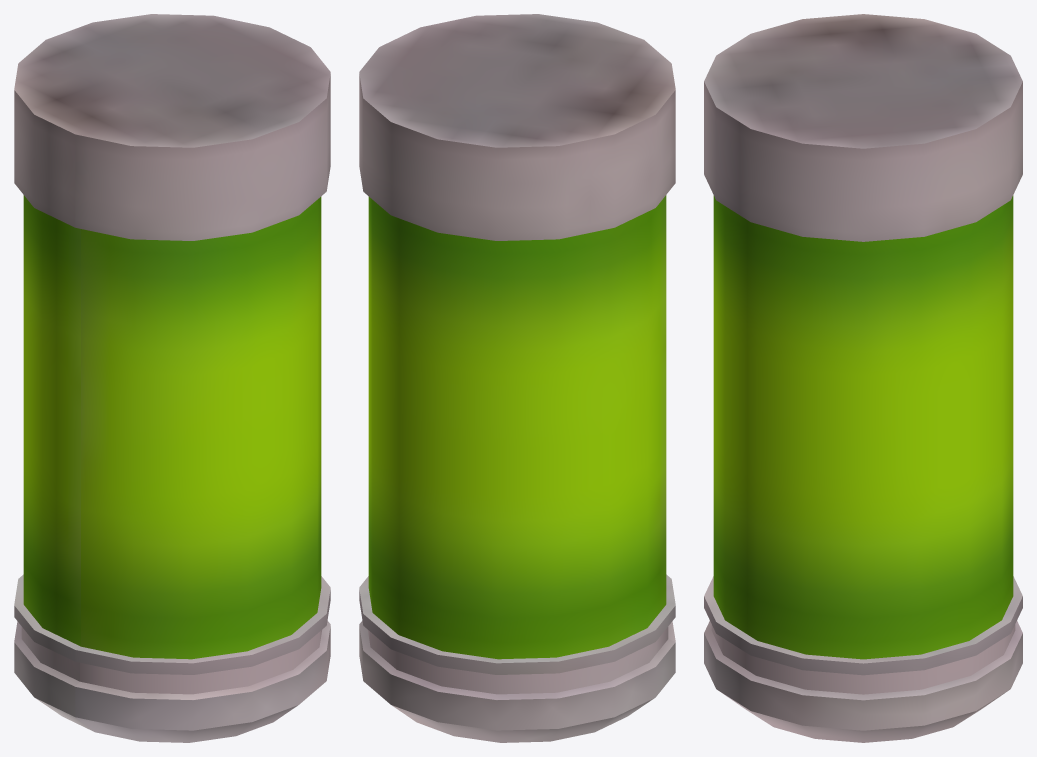
File: HealthPack Tube.glb
3 renders of one model, left to right at view 1: azimuth 30°, elevation 25°; view 2: azimuth 150°, elevation 25°; view 3: azimuth 270°, elevation 25°, orthographic.
Parts seen in each view (by area): view 1: Prop_HealthPack_Tube; view 2: Prop_HealthPack_Tube; view 3: Prop_HealthPack_Tube.
Part boxes in pixels (<box>): Prop_HealthPack_Tube: <box>14,14,330,742</box>; Prop_HealthPack_Tube: <box>359,14,675,742</box>; Prop_HealthPack_Tube: <box>704,14,1022,742</box>.
Size of the model in its own units: 0.1495 by 0.3146 by 0.1495.
1 material, 1 textured.
